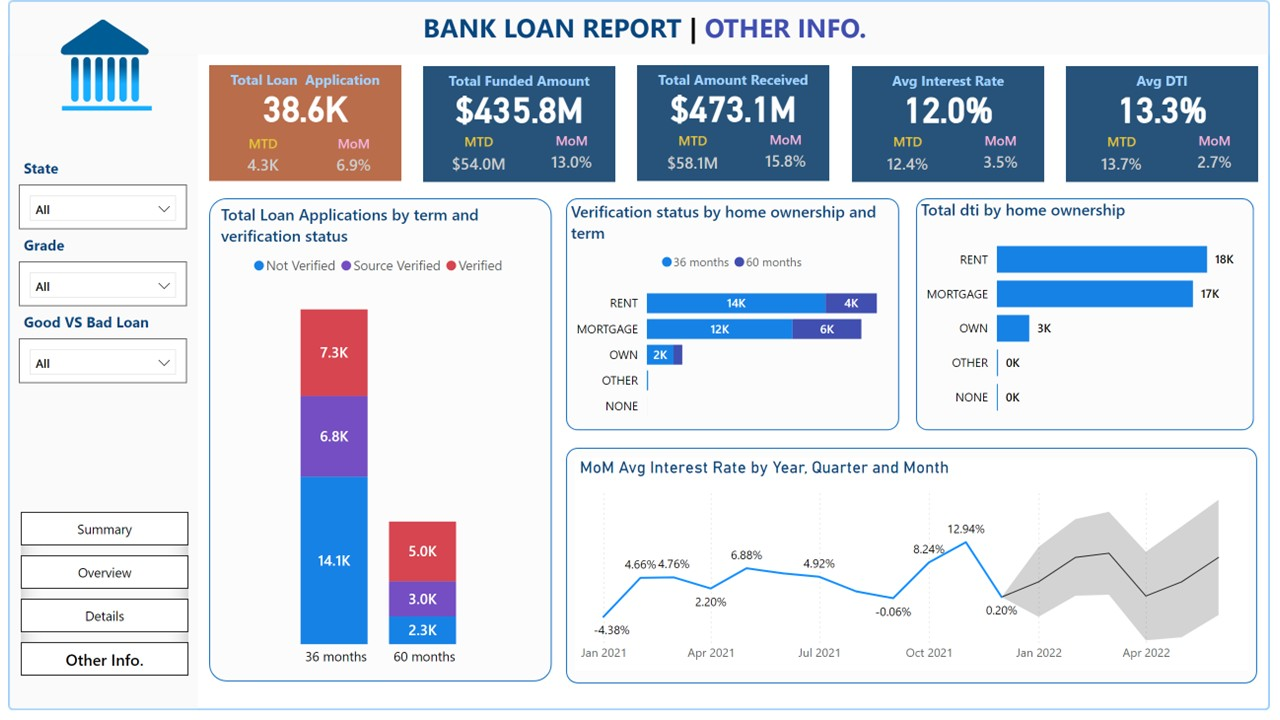

This screenshot's page, from the dashboard's own definition file:
{"tool":"powerbi","page":{"name":"Other Info.","canvas":[1280,720],"ordinal":3},"visuals":[{"type":"shape","box":[0,0,1280,720.2],"z":0},{"type":"shape","box":[638.4,65.8,195,117.5],"z":0,"group":"g2"},{"type":"shape","box":[203.8,66.2,195,117.5],"z":0,"group":"g1"},{"type":"shape","box":[420.5,67,195,117.5],"z":0,"group":"g5"},{"type":"shape","box":[856.2,67,195,117.5],"z":0,"group":"g3"},{"type":"shape","box":[1072.8,67,195,117.5],"z":0,"group":"g4"},{"type":"card","fields":{"Values":["bank_loan_data.Total Amount Received"]},"box":[638.4,83.3,195,47.5],"z":1000,"group":"g2"},{"type":"card","fields":{"Values":["bank_loan_data.Total Loan Applications"]},"box":[203.8,83.7,195,47.5],"z":1000,"group":"g1"},{"type":"card","fields":{"Values":["bank_loan_data.Total Funded Amount"]},"box":[420.5,84.5,195,47.5],"z":1000,"group":"g5"},{"type":"card","fields":{"Values":["bank_loan_data.Avg Interest Rate"]},"box":[856.2,84.5,195,47.5],"z":1000,"group":"g3"},{"type":"card","fields":{"Values":["bank_loan_data.Avg DTI"]},"box":[1072.8,84.5,195,47.5],"z":1000,"group":"g4"},{"type":"shape","box":[920.5,201.5,342.6,235.3],"z":1000},{"type":"textbox","box":[638.4,65.8,195,35],"z":2000,"group":"g2"},{"type":"textbox","box":[203.8,66.2,195,35],"z":2000,"group":"g1"},{"type":"textbox","box":[420.5,67,195,35],"z":2000,"group":"g5"},{"type":"textbox","box":[856.2,67,195,35],"z":2000,"group":"g3"},{"type":"textbox","box":[1072.8,67,195,35],"z":2000,"group":"g4"},{"type":"shape","box":[565.8,201.5,337.8,235.3],"z":2000},{"type":"card","title":"MTD","fields":{"Values":["bank_loan_data.MTD Total Amount Received"]},"box":[660.6,133,68.8,50],"z":3000,"group":"g2"},{"type":"card","title":"MTD","fields":{"Values":["bank_loan_data.MTD Funded Amount"]},"box":[442.7,134.2,68.8,50],"z":3000,"group":"g5"},{"type":"card","title":"MTD","fields":{"Values":["bank_loan_data.MTD Avg Interest Rate"]},"box":[878.4,134.2,68.8,50],"z":3000,"group":"g3"},{"type":"card","title":"MTD","fields":{"Values":["bank_loan_data.MTD Avg DIT"]},"box":[1095,134.2,68.8,50],"z":3000,"group":"g4"},{"type":"card","title":"MTD","fields":{"Values":["bank_loan_data.MTD Loan Applications"]},"box":[227.6,136.2,61.2,47.5],"z":3000,"group":"g1"},{"type":"shape","box":[203.9,201.5,347.5,489.8],"z":3000},{"type":"card","title":"MoM","fields":{"Values":["bank_loan_data.MoM Total Amount Received"]},"box":[758.1,131.7,61.2,47.5],"z":4000,"group":"g2"},{"type":"card","title":"MoM","fields":{"Values":["bank_loan_data.MoM Total Funded Amount"]},"box":[540.2,132.9,61.2,47.5],"z":4000,"group":"g5"},{"type":"card","title":"MoM","fields":{"Values":["bank_loan_data.MoM Avg Interest Rate"]},"box":[975.9,132.9,61.2,47.5],"z":4000,"group":"g3"},{"type":"card","title":"MoM","fields":{"Values":["bank_loan_data.MoM Avg DTI"]},"box":[1192.5,132.9,61.2,47.5],"z":4000,"group":"g4"},{"type":"card","title":"MoM","fields":{"Values":["bank_loan_data.MoM Loan Application"]},"box":[320,136.2,61.2,47.5],"z":4000,"group":"g1"},{"type":"shape","box":[565.8,453.6,700.9,238.9],"z":4000},{"type":"lineChart","fields":{"Y":["bank_loan_data.MoM Avg Interest Rate"],"Category":["bank_loan_data.last_payment_date.Variation.Date Hierarchy.Year","bank_loan_data.last_payment_date.Variation.Date Hierarchy.Quarter","bank_loan_data.last_payment_date.Variation.Date Hierarchy.Month"]},"box":[575.5,464.5,682.8,216],"z":5000},{"type":"barChart","title":"Verification status by home ownership and term","fields":{"Series":["bank_loan_data.term"],"Y":["CountNonNull(bank_loan_data.verification_status)"],"Category":["bank_loan_data.home_ownership"]},"box":[565.8,202.7,340,235],"z":6000},{"type":"columnChart","title":"Total Loan Applications by term and verification status","fields":{"Category":["bank_loan_data.term"],"Series":["bank_loan_data.verification_status"],"Y":["bank_loan_data.Total Loan Applications"]},"box":[211.1,206.3,333,479],"z":7000},{"type":"group","id":"g1","title":"Group 1","box":[203.8,66.2,195,117.5],"z":8000},{"type":"group","id":"g2","title":"Group 1","box":[638.4,65.8,196.1,118.9],"z":9000},{"type":"group","id":"g3","title":"Group 1","box":[856.2,67,194.8,118.9],"z":10000},{"type":"group","id":"g4","title":"Group 1","box":[1072.8,67,194.8,118.9],"z":11000},{"type":"group","id":"g5","title":"Group 1","box":[420.5,67,196.1,118.9],"z":12000},{"type":"barChart","title":"Total dti by home ownership","fields":{"Category":["bank_loan_data.home_ownership"],"Y":["CountNonNull(bank_loan_data.dti)"]},"box":[920.5,201.5,340,235.3],"z":13000},{"type":"shape","box":[0,0,1280,55.5],"z":14000},{"type":"shape","box":[1.2,55.3,191.8,664.7],"z":15000},{"type":"textbox","box":[416.2,3.6,471.7,45.8],"z":16000},{"type":"image","box":[30.2,2.4,131.5,127.9],"z":17000},{"type":"slicer","fields":{"Values":["bank_loan_data.grade"]},"box":[11.1,265.1,170.4,45.7],"z":18000},{"type":"textbox","box":[11.1,155.2,69.1,32.1],"z":19000},{"type":"slicer","fields":{"Values":["bank_loan_data.address_state"]},"box":[11.1,187.3,170.4,45.7],"z":20000},{"type":"textbox","box":[11.1,233,69.1,32.1],"z":21000},{"type":"slicer","fields":{"Values":["bank_loan_data.Good VS Bad Loan"]},"box":[11.1,342.9,170.4,45.7],"z":22000},{"type":"textbox","box":[10.9,310.5,154.4,32.6],"z":23000},{"type":"pageNavigator","box":[13.3,518.8,170.1,166.5],"z":24000}]}

Visuals, with their boxes in screenshot pixels (x1, y1, x2, y2), scaled from the page's 1280x720 canvas onto the 1280x720 screenshot:
shape: BBox(0, 0, 1279, 719)
shape: BBox(638, 66, 833, 183)
shape: BBox(204, 66, 399, 184)
shape: BBox(420, 67, 616, 184)
shape: BBox(856, 67, 1051, 184)
shape: BBox(1073, 67, 1268, 184)
card - bank_loan_data.Total Amount Received: BBox(638, 83, 833, 131)
card - bank_loan_data.Total Loan Applications: BBox(204, 84, 399, 131)
card - bank_loan_data.Total Funded Amount: BBox(420, 84, 616, 132)
card - bank_loan_data.Avg Interest Rate: BBox(856, 84, 1051, 132)
card - bank_loan_data.Avg DTI: BBox(1073, 84, 1268, 132)
shape: BBox(920, 202, 1263, 437)
textbox: BBox(638, 66, 833, 101)
textbox: BBox(204, 66, 399, 101)
textbox: BBox(420, 67, 616, 102)
textbox: BBox(856, 67, 1051, 102)
textbox: BBox(1073, 67, 1268, 102)
shape: BBox(566, 202, 904, 437)
"MTD" card: BBox(661, 133, 729, 183)
"MTD" card: BBox(443, 134, 512, 184)
"MTD" card: BBox(878, 134, 947, 184)
"MTD" card: BBox(1095, 134, 1164, 184)
"MTD" card: BBox(228, 136, 289, 184)
shape: BBox(204, 202, 551, 691)
"MoM" card: BBox(758, 132, 819, 179)
"MoM" card: BBox(540, 133, 601, 180)
"MoM" card: BBox(976, 133, 1037, 180)
"MoM" card: BBox(1192, 133, 1254, 180)
"MoM" card: BBox(320, 136, 381, 184)
shape: BBox(566, 454, 1267, 692)
lineChart - bank_loan_data.MoM Avg Interest Rate x bank_loan_data.last_payment_date.Variation.Date Hierarchy.Year: BBox(576, 464, 1258, 680)
"Verification status by home ownership and term" barChart: BBox(566, 203, 906, 438)
"Total Loan Applications by term and verification status" columnChart: BBox(211, 206, 544, 685)
"Group 1" group: BBox(204, 66, 399, 184)
"Group 1" group: BBox(638, 66, 834, 185)
"Group 1" group: BBox(856, 67, 1051, 186)
"Group 1" group: BBox(1073, 67, 1268, 186)
"Group 1" group: BBox(420, 67, 617, 186)
"Total dti by home ownership" barChart: BBox(920, 202, 1260, 437)
shape: BBox(0, 0, 1279, 56)
shape: BBox(1, 55, 193, 719)
textbox: BBox(416, 4, 888, 49)
image: BBox(30, 2, 162, 130)
slicer - bank_loan_data.grade: BBox(11, 265, 182, 311)
textbox: BBox(11, 155, 80, 187)
slicer - bank_loan_data.address_state: BBox(11, 187, 182, 233)
textbox: BBox(11, 233, 80, 265)
slicer - bank_loan_data.Good VS Bad Loan: BBox(11, 343, 182, 389)
textbox: BBox(11, 310, 165, 343)
pageNavigator: BBox(13, 519, 183, 685)
